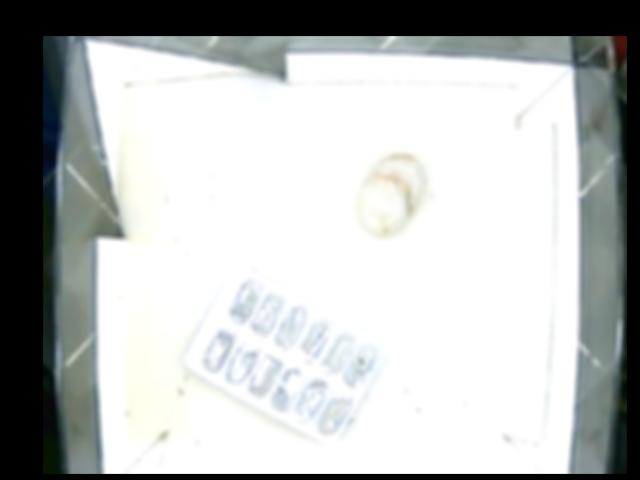Medicine: (180, 263, 386, 442)
Pebble: (355, 151, 428, 238)
